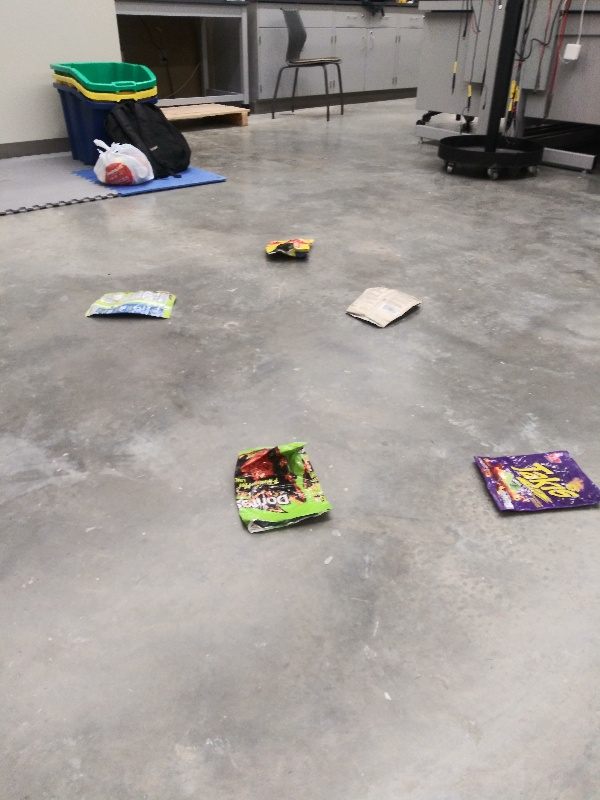bag: (229, 435, 336, 534), (470, 449, 600, 521), (341, 284, 426, 330), (82, 287, 184, 322), (262, 234, 318, 265)
